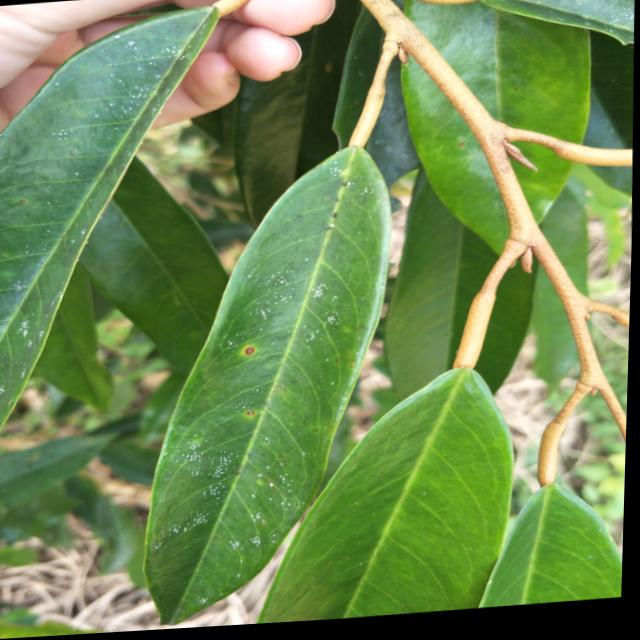Leaf Spot: (170, 178, 400, 560)
